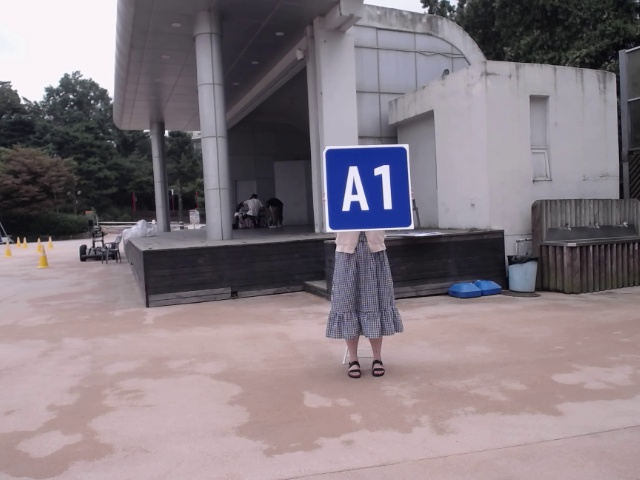delivery_a1: (323, 144, 413, 232)
